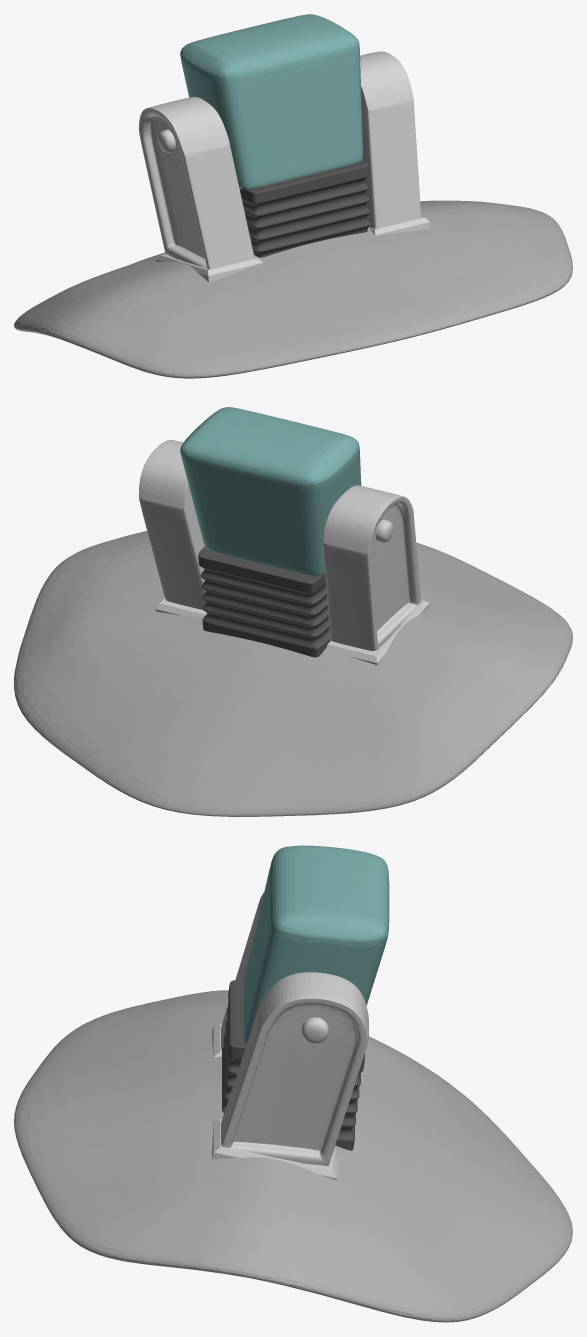
File: neck.glb
3 renders of one model, top to bottom at view 1: azimuth 30°, elevation 25°; view 2: azimuth 150°, elevation 25°; view 3: azimuth 270°, elevation 25°, orthographic. The views are drawn at different scales.
Visible parts, largest first — view 1: NECK; view 2: NECK; view 3: NECK.
Part boxes in pixels (x1,y1,x2,y2): NECK: (14,14,572,378); NECK: (14,407,572,816); NECK: (14,845,572,1322).
Size of the model in its own units: 2.06 by 1.21 by 1.72.
